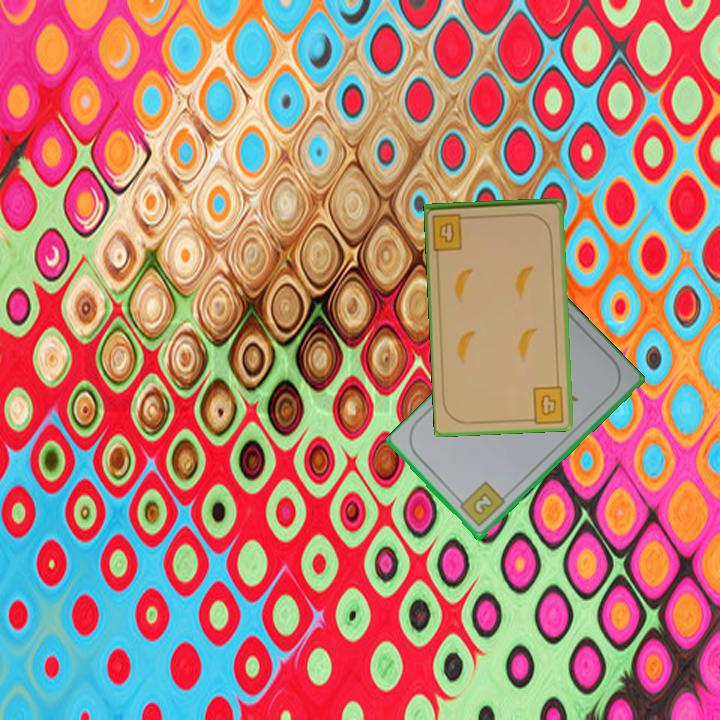2b: (454, 478, 508, 530)
4b: (429, 210, 473, 253), (524, 382, 567, 425)
